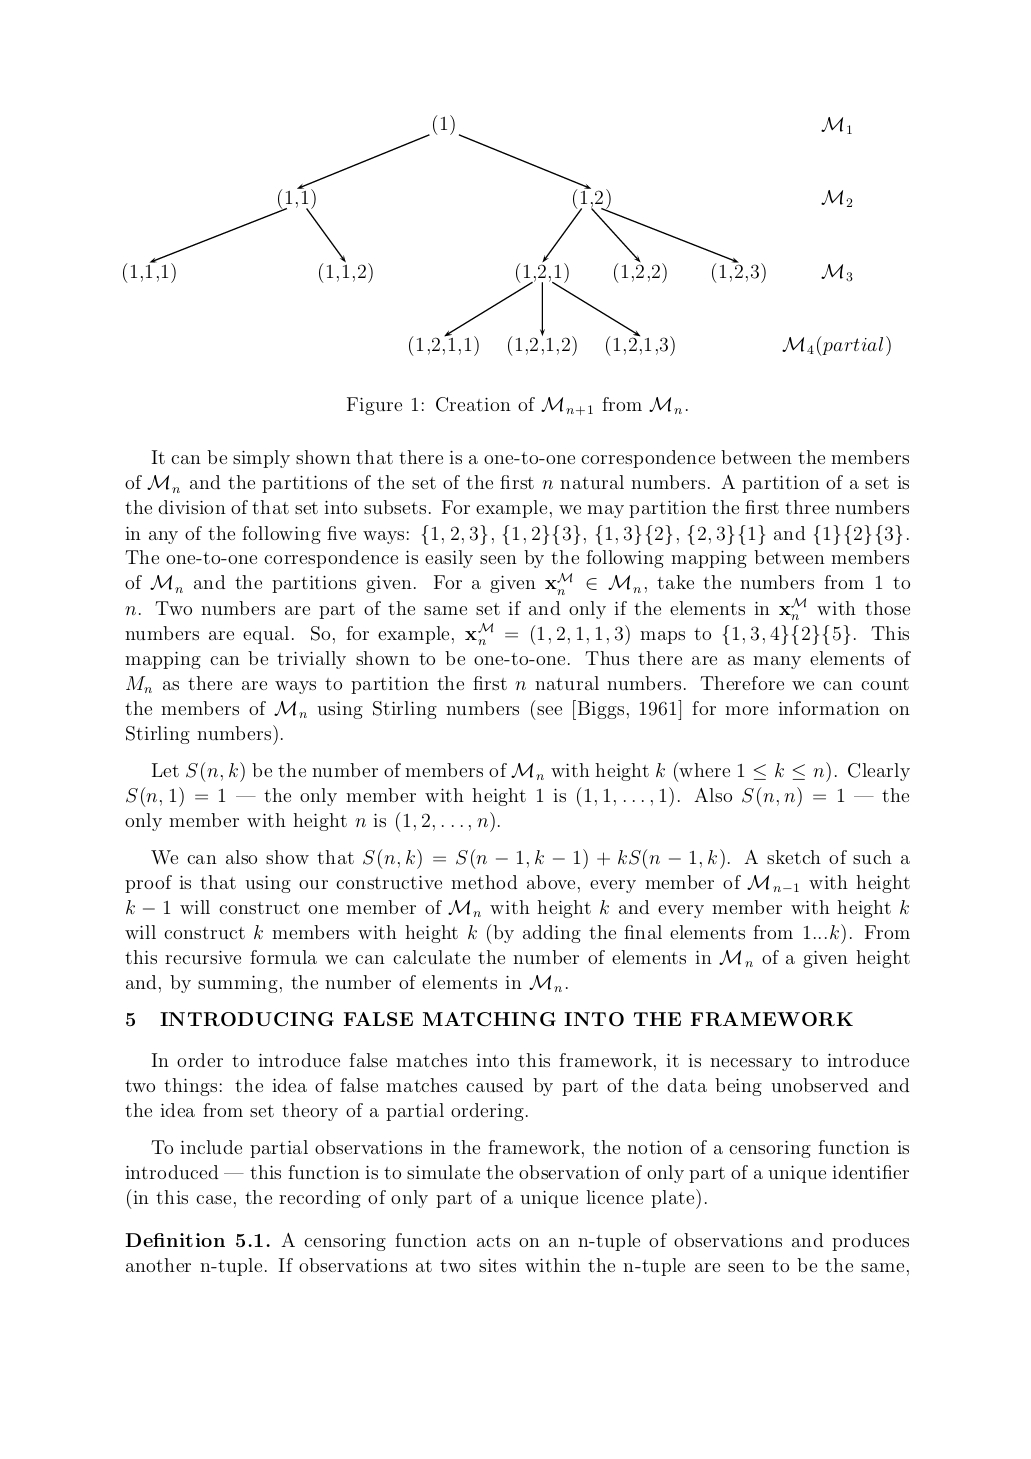figure: (123, 114, 890, 356)
